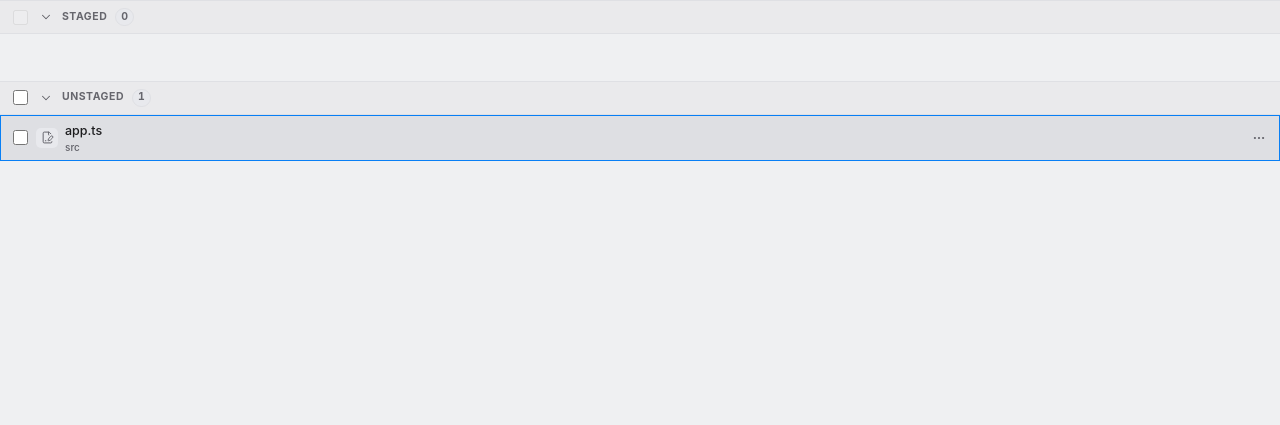
Scenario: DiffFileList file actions › applies file action restrictions to a Git operation or dirty conflict
Click the button named "More actions for src/app.ts": (1259,138) left=1246, top=125, right=1272, bottom=151
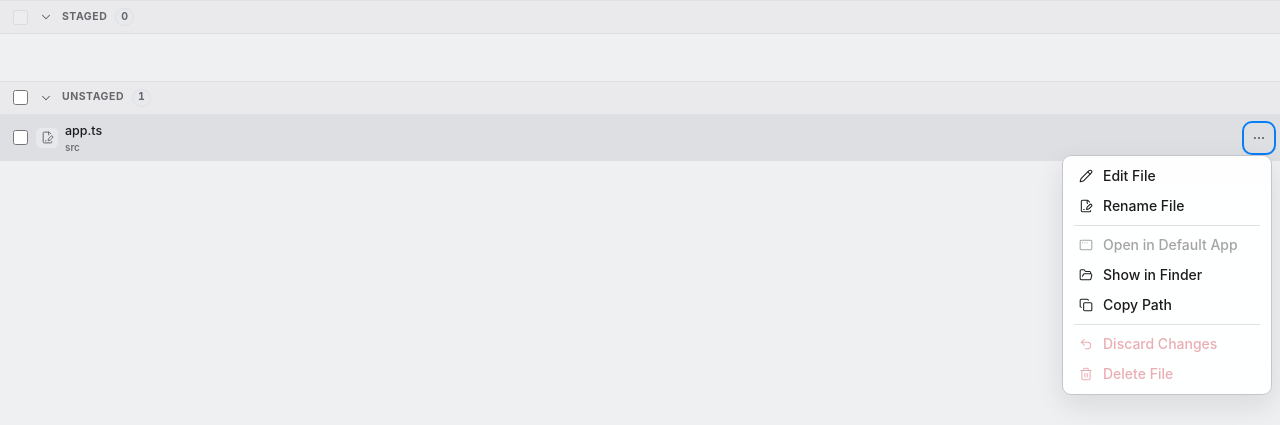
Expected: the menu item "Open in Default App" is disabled, left=1068, top=230, right=1266, bottom=260
Expected: the menu item "Show in Finder" is enabled, left=1068, top=260, right=1266, bottom=290
Expected: the menu item "Copy Path" is enabled, left=1068, top=290, right=1266, bottom=320
